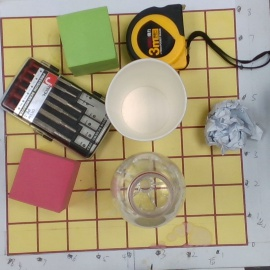bottle: (112, 153, 185, 228)
cup: (105, 59, 187, 142)
